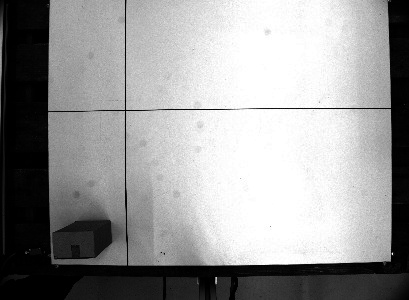b6: (49, 217, 113, 260)
